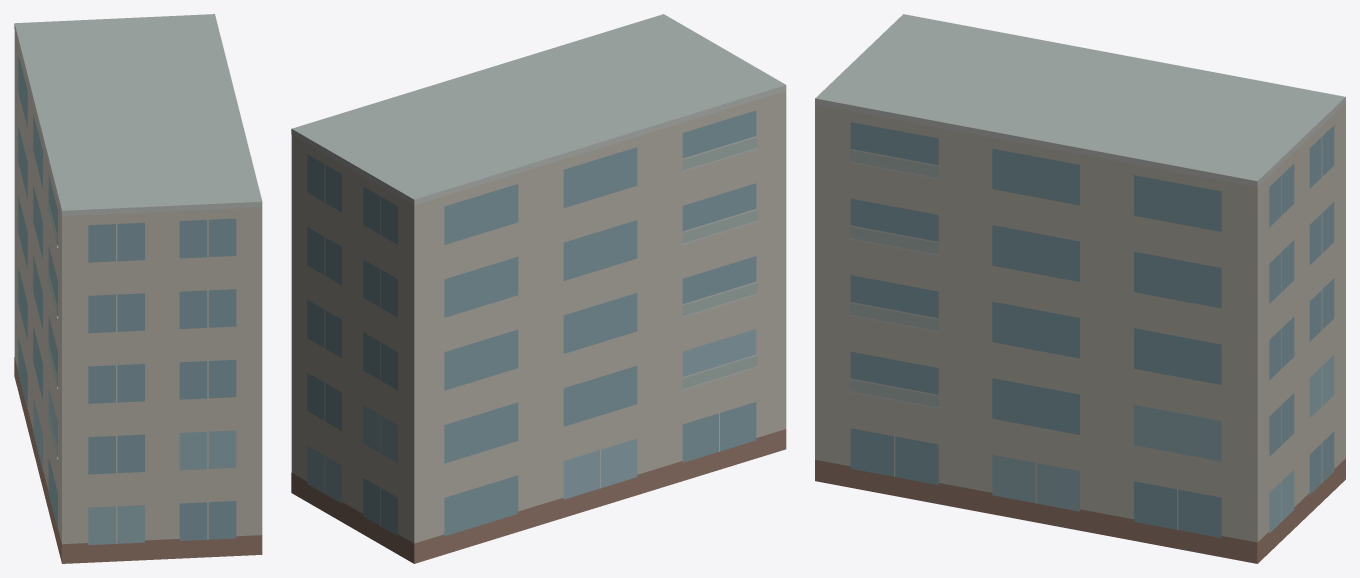
File: survey-upis-32842873.glb
3 renders of one model, left to right at view 1: azimuth 30°, elevation 25°; view 2: azimuth 150°, elevation 25°; view 3: azimuth 270°, elevation 25°, orthographic. The views are drawn at different scales.
Visible parts, largest first — view 1: survey-upis-32842873.tmp; view 2: survey-upis-32842873.tmp; view 3: survey-upis-32842873.tmp.
Boxes of the visible parts, box(x1,y1,x2,y2) form: survey-upis-32842873.tmp: box(14, 14, 262, 563); survey-upis-32842873.tmp: box(291, 14, 786, 563); survey-upis-32842873.tmp: box(815, 14, 1345, 563).
Size of the model in its own units: 14.31 by 15.25 by 19.18.
